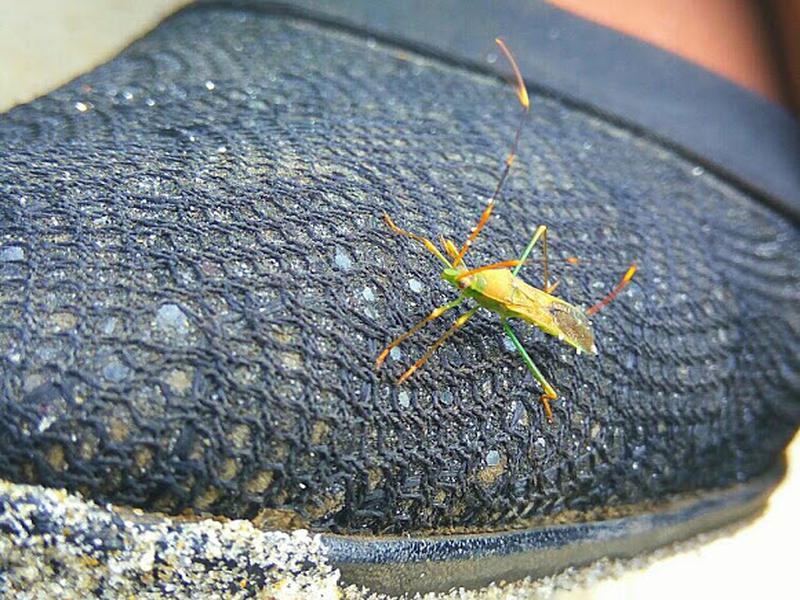Rice_earhead_bug: (377, 213, 618, 403)
